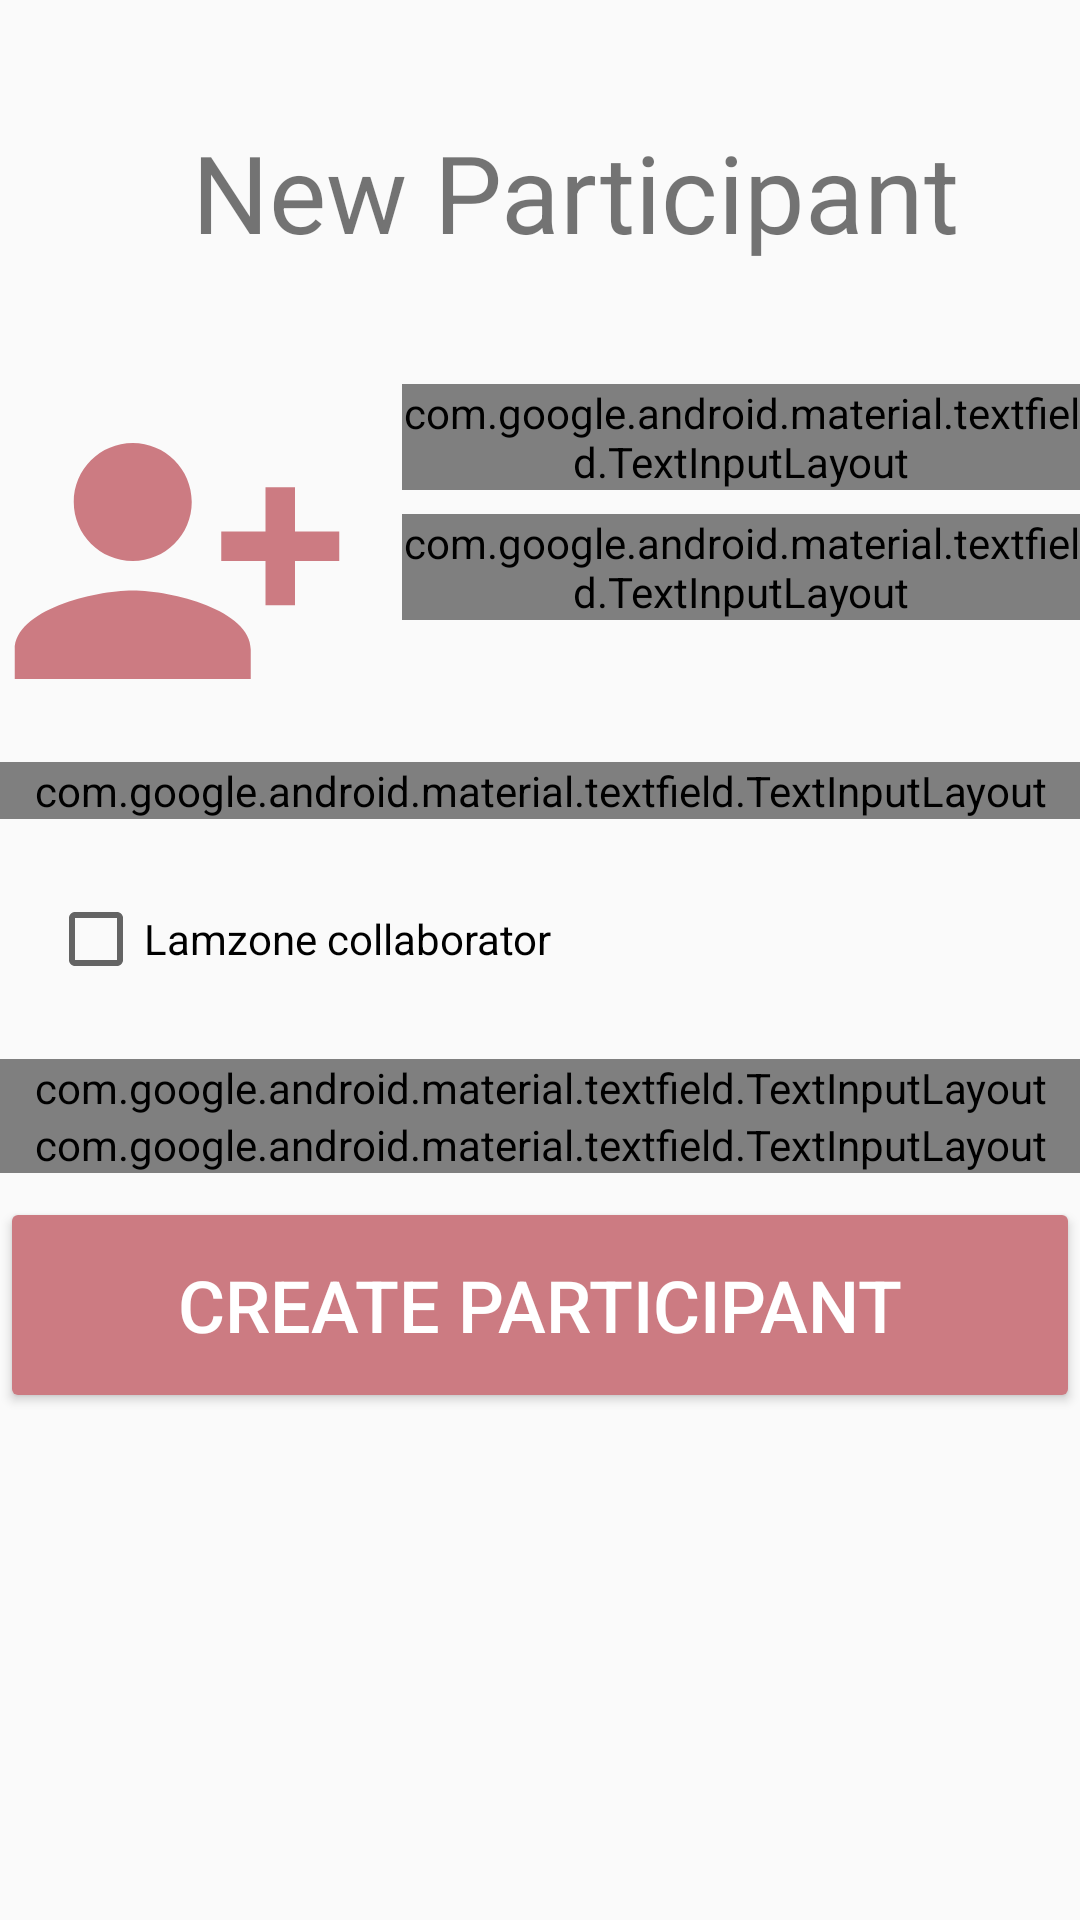

Icon bounding boxes for this 1080 x 1920 phone screenshot, format BBox(x1, y1, x2, y2):
person add: BBox(14, 443, 340, 679)
